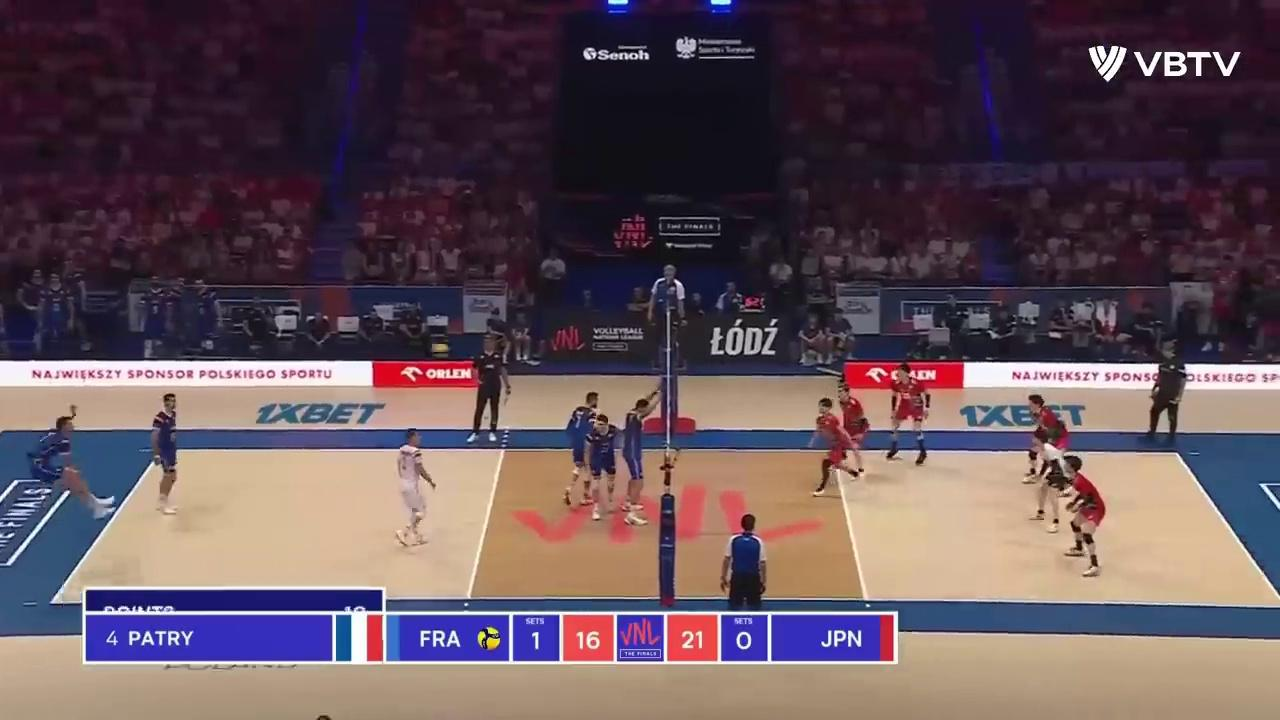ball: (429, 342, 451, 359)
